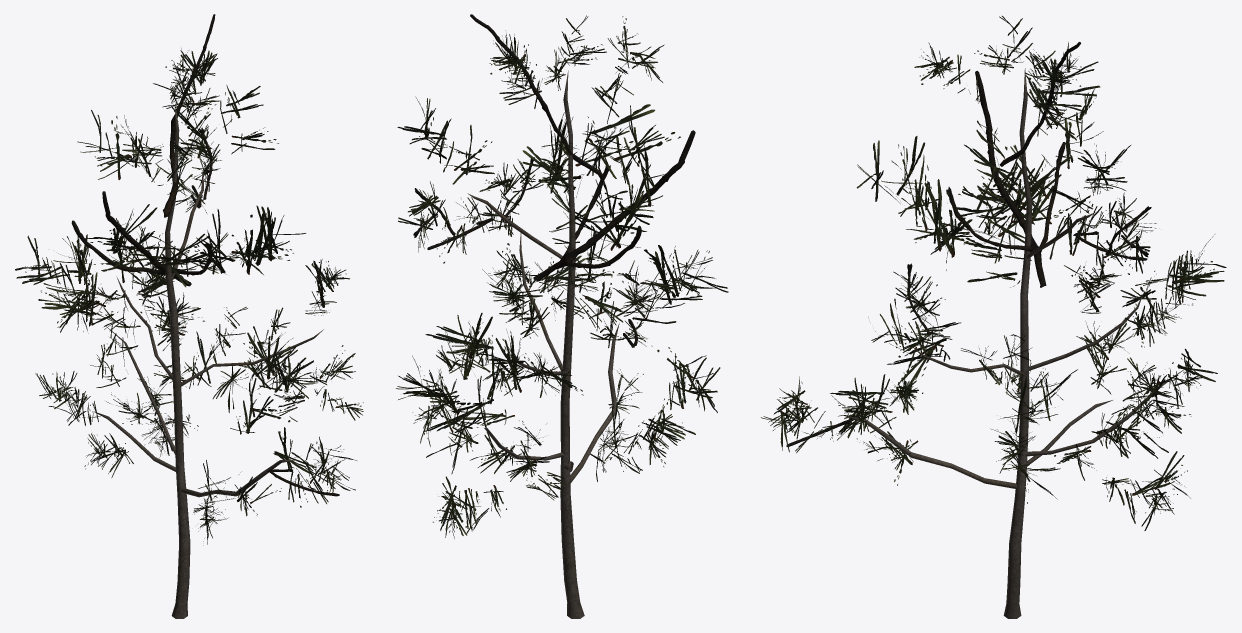
The model's file is pine_sapling_small_b.glb.
3 renders of one model, left to right at view 1: azimuth 30°, elevation 25°; view 2: azimuth 150°, elevation 25°; view 3: azimuth 270°, elevation 25°, orthographic. The views are drawn at different scales.
Visible parts, largest first — view 1: pine_sapling_small_b; view 2: pine_sapling_small_b; view 3: pine_sapling_small_b.
Part boxes in pixels (x1=…): pine_sapling_small_b: x1=15, y1=14, x2=363, y2=618; pine_sapling_small_b: x1=396, y1=14, x2=728, y2=618; pine_sapling_small_b: x1=761, y1=16, x2=1226, y2=618.
Size of the model in its own units: 0.5533 by 1.06 by 0.7418.
Materials: 2 (2 with a texture image).
